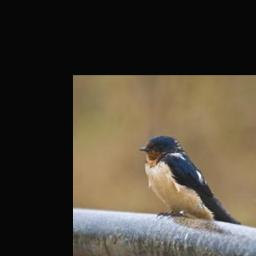Swallow: (138, 134, 242, 226)
